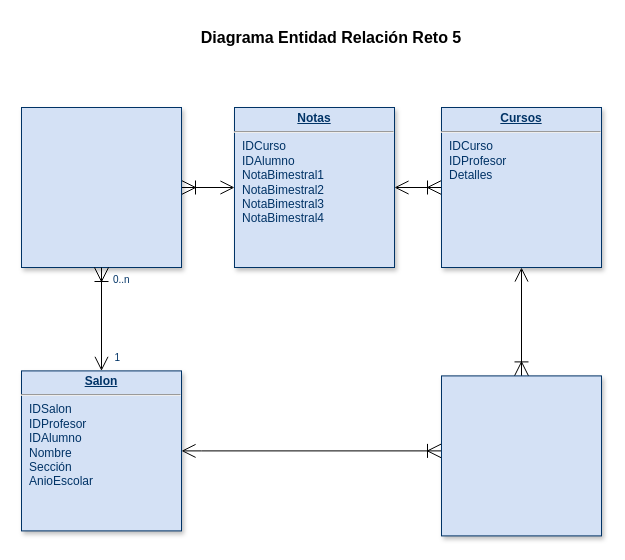
Image size: 625x560. Some labels were removed from this diagram. The centre of each missing label's shape, as x and y in pixels:
"Alumno IDAlumno Nombres Apellidos Edad Correo Telefono Direccion" goes at point 102,188.
"Profesor IDProfesor Nombres Apellidos Edad Correo Telefono Direccion" goes at point 522,457.
